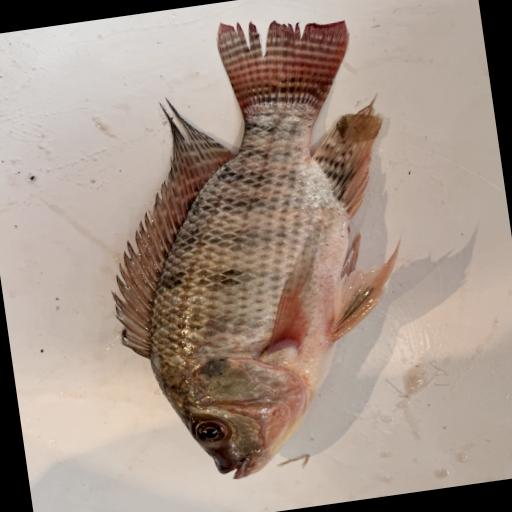Tilapia: (76, 1, 432, 493)
